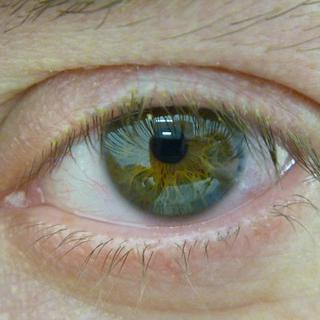iris: (92, 66, 247, 221)
